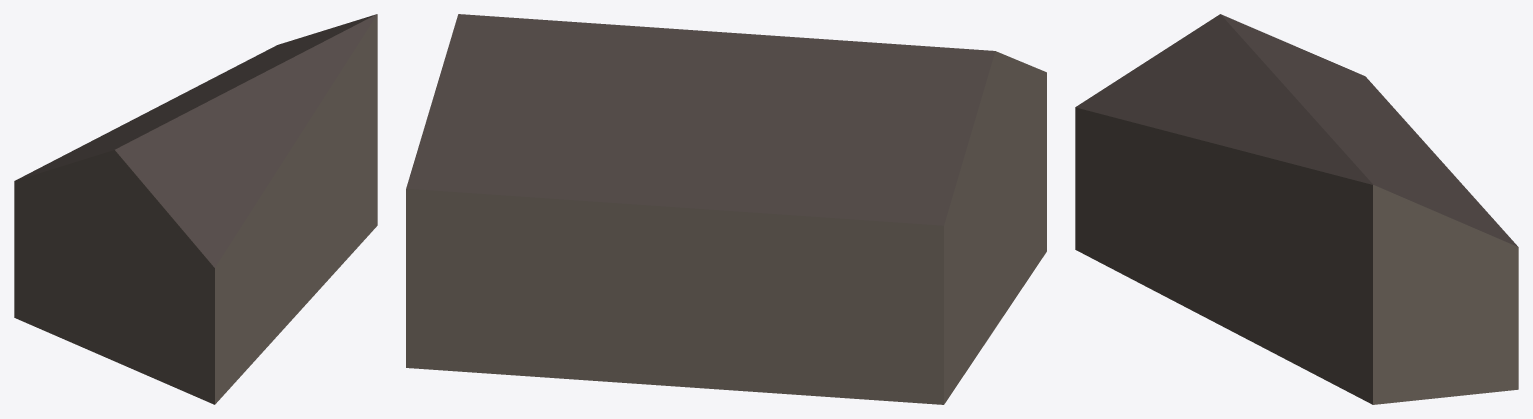
The picture shows the model from 3 angles, left to right: view 1: azimuth 30°, elevation 25°; view 2: azimuth 150°, elevation 25°; view 3: azimuth 270°, elevation 25°; orthographic projection. The views are drawn at different scales.
Parts seen in each view (by area): view 1: HP-w1376988822; view 2: HP-w1376988822; view 3: HP-w1376988822.
Part boxes in pixels (x1,y1,x2,y2): HP-w1376988822: (14,14,377,404); HP-w1376988822: (406,14,1046,404); HP-w1376988822: (1075,14,1518,404).
Bounding box in the file's own units: 16.84 × 9.28 × 16.94.
